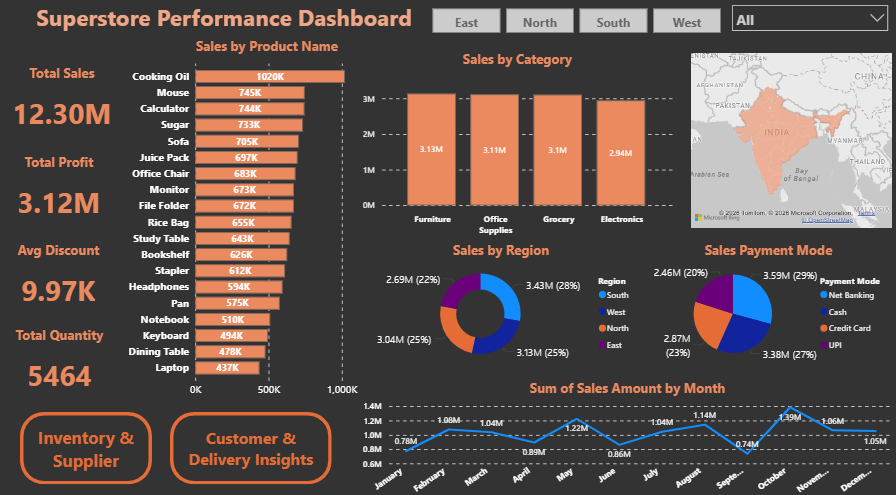

Layout of this report page (visuals, bound fields, positions):
{"tool":"powerbi","page":{"name":"Page 1","canvas":[1280,720],"ordinal":0},"visuals":[{"type":"actionButton","box":[28.3,591,188.5,103.5],"z":0},{"type":"textbox","box":[0,0,640.6,55.3],"z":1000},{"type":"advancedSlicerVisual","fields":{"Values":["Superstore_Management_System.Region"]},"box":[612.3,9.9,423.8,45.4],"z":2000},{"type":"slicer","fields":{"Values":["Superstore_Management_System.Delivery Status"]},"box":[1036.2,0,243.5,55.1],"z":3000},{"type":"clusteredColumnChart","title":"Sales by Category","fields":{"Category":["Superstore_Management_System.Category"],"Y":["Sum(Superstore_Management_System.Sales Amount)"]},"box":[512.9,74.3,452.9,272.9],"z":4000},{"type":"filledMap","fields":{"Series":["Superstore_Management_System.Region"],"Category":["Superstore_Management_System.State"]},"box":[982.9,74.3,297.1,258.6],"z":5000},{"type":"donutChart","title":"Sales by Region","fields":{"Category":["Superstore_Management_System.Region"],"Y":["Sum(Superstore_Management_System.Sales Amount)"]},"box":[512.9,347.1,405.7,182.9],"z":6000},{"type":"pieChart","title":"Sales Payment Mode","fields":{"Category":["Superstore_Management_System.Payment Mode"],"Y":["Sum(Superstore_Management_System.Sales Amount)"]},"box":[917.1,347.1,361.4,182.9],"z":7000},{"type":"lineChart","fields":{"Category":["Superstore_Management_System.Order Date.Variation.Date Hierarchy.Month"],"Y":["Sum(Superstore_Management_System.Sales Amount)"]},"box":[512.9,544.3,767.1,175.7],"z":8000},{"type":"clusteredBarChart","title":"Sales by Product Name","fields":{"Category":["Superstore_Management_System.Product Name"],"Y":["Sum(Superstore_Management_System.Sales Amount)"]},"box":[177.2,55.3,408.2,524.4],"z":9000},{"type":"cardVisual","title":"Total Sales","fields":{"Data":["Sum(Superstore_Management_System.Sales Amount)"]},"box":[0,95,177.2,109.1],"z":10000},{"type":"cardVisual","title":"Total Profit","fields":{"Data":["Sum(Superstore_Management_System.Profit)"]},"box":[0,221.1,168.7,110.6],"z":11000},{"type":"cardVisual","title":"Total Quantity","fields":{"Data":["Sum(Superstore_Management_System.Quantity)"]},"box":[1.4,469.1,167.2,110.6],"z":12000},{"type":"cardVisual","title":"Avg Discount","fields":{"Data":["Sum(Superstore_Management_System.Discount (%))"]},"box":[0,347.2,167.2,109.1],"z":13000},{"type":"actionButton","box":[242.4,591,231,103.5],"z":14000}]}

Visuals, with their boxes in screenshot pixels (x1, y1, x2, y2), scaled from the page's 1280x720 canvas onto the 896x495 screenshot:
actionButton: left=20, top=406, right=152, bottom=477
textbox: left=0, top=0, right=448, bottom=38
advancedSlicerVisual - Superstore_Management_System.Region: left=429, top=7, right=725, bottom=38
slicer - Superstore_Management_System.Delivery Status: left=725, top=0, right=895, bottom=38
"Sales by Category" clusteredColumnChart: left=359, top=51, right=676, bottom=239
filledMap - Superstore_Management_System.Region x Superstore_Management_System.State: left=688, top=51, right=895, bottom=229
"Sales by Region" donutChart: left=359, top=239, right=643, bottom=364
"Sales Payment Mode" pieChart: left=642, top=239, right=895, bottom=364
lineChart - Superstore_Management_System.Order Date.Variation.Date Hierarchy.Month x Sum(Superstore_Management_System.Sales Amount): left=359, top=374, right=895, bottom=494
"Sales by Product Name" clusteredBarChart: left=124, top=38, right=410, bottom=399
"Total Sales" cardVisual: left=0, top=65, right=124, bottom=140
"Total Profit" cardVisual: left=0, top=152, right=118, bottom=228
"Total Quantity" cardVisual: left=1, top=323, right=118, bottom=399
"Avg Discount" cardVisual: left=0, top=239, right=117, bottom=314
actionButton: left=170, top=406, right=331, bottom=477
